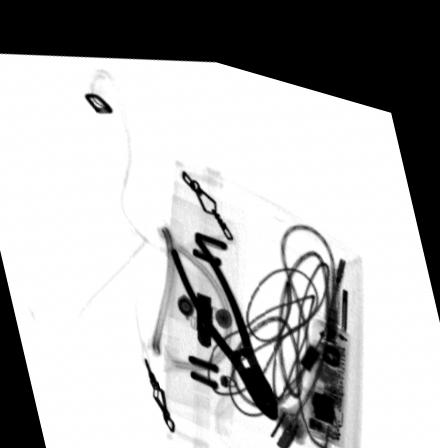Pliers: (169, 217, 279, 405)
